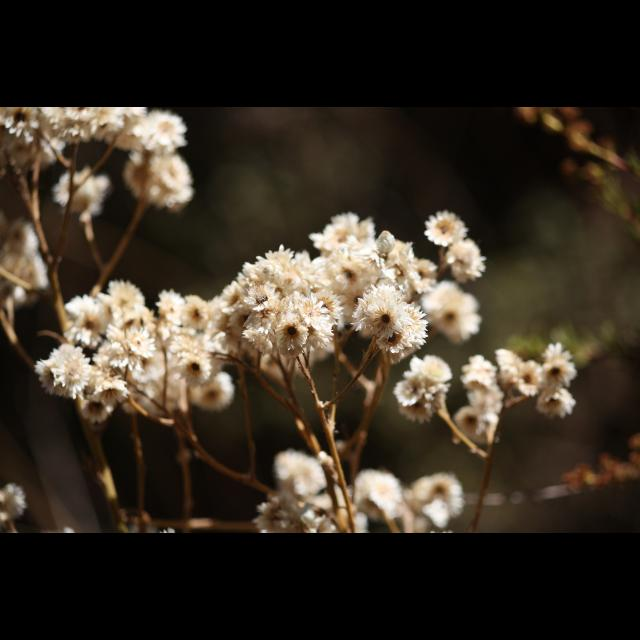Flower: (32, 211, 574, 534), (0, 107, 188, 315), (0, 486, 22, 522)
